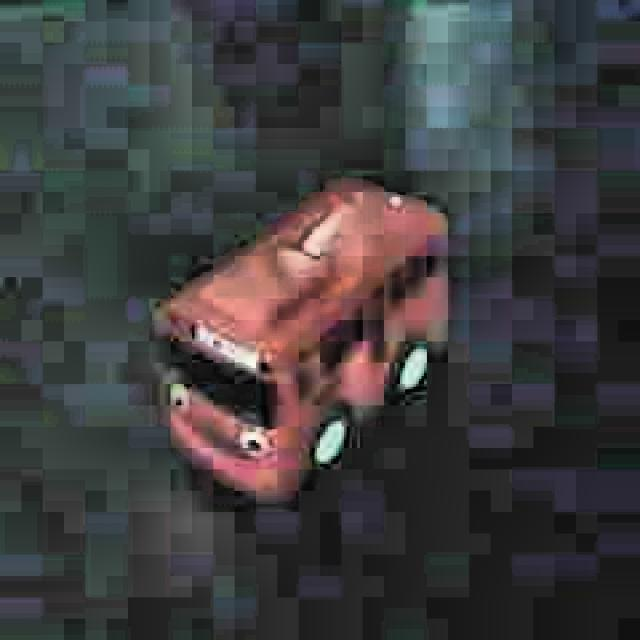bus: (146, 165, 466, 519)
